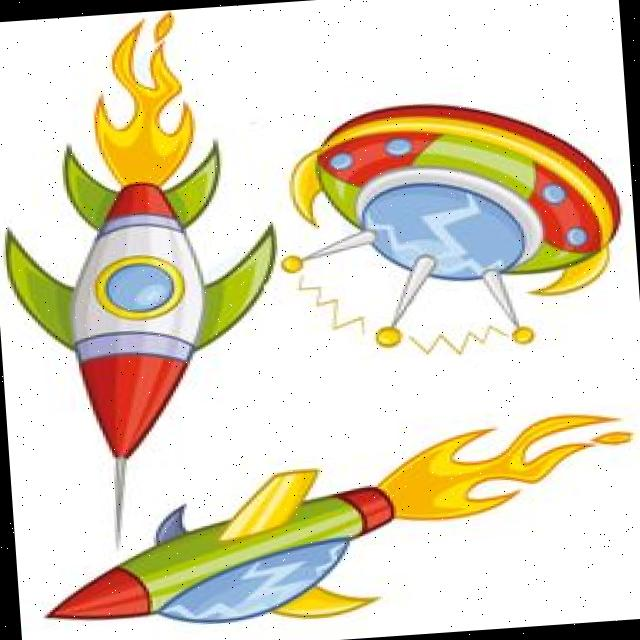rocket: (1, 135, 293, 491), (37, 459, 399, 631)
